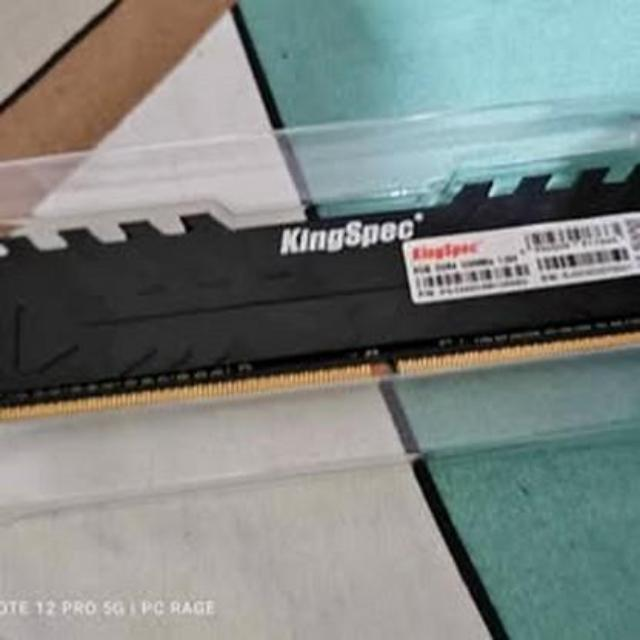RAM: (0, 162, 640, 428)
